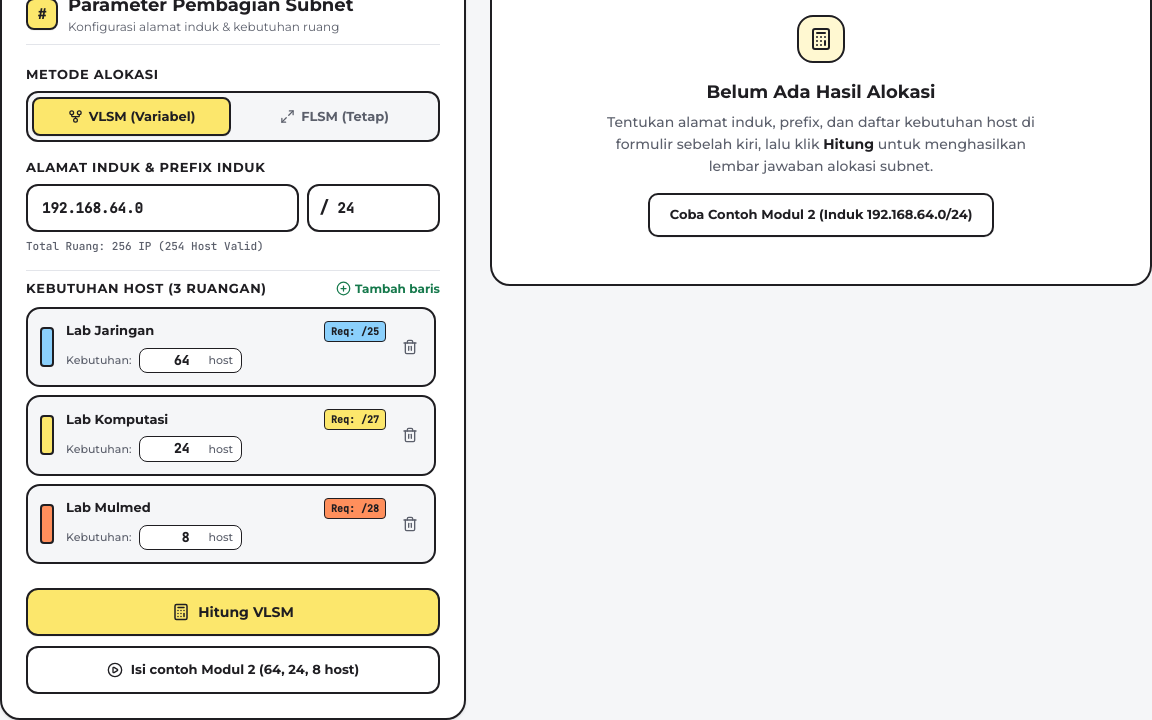
Test case: Halaman FlsmVlsm › memastikan urutan seksi hasil: Ringkasan -> Diketahui -> Langkah -> Tabel -> Kesimpulan
(page scrolled)
Click the button "Isi contoh Modul 2 (64, 24, 8 host)": (233,670) [26,646,440,694]
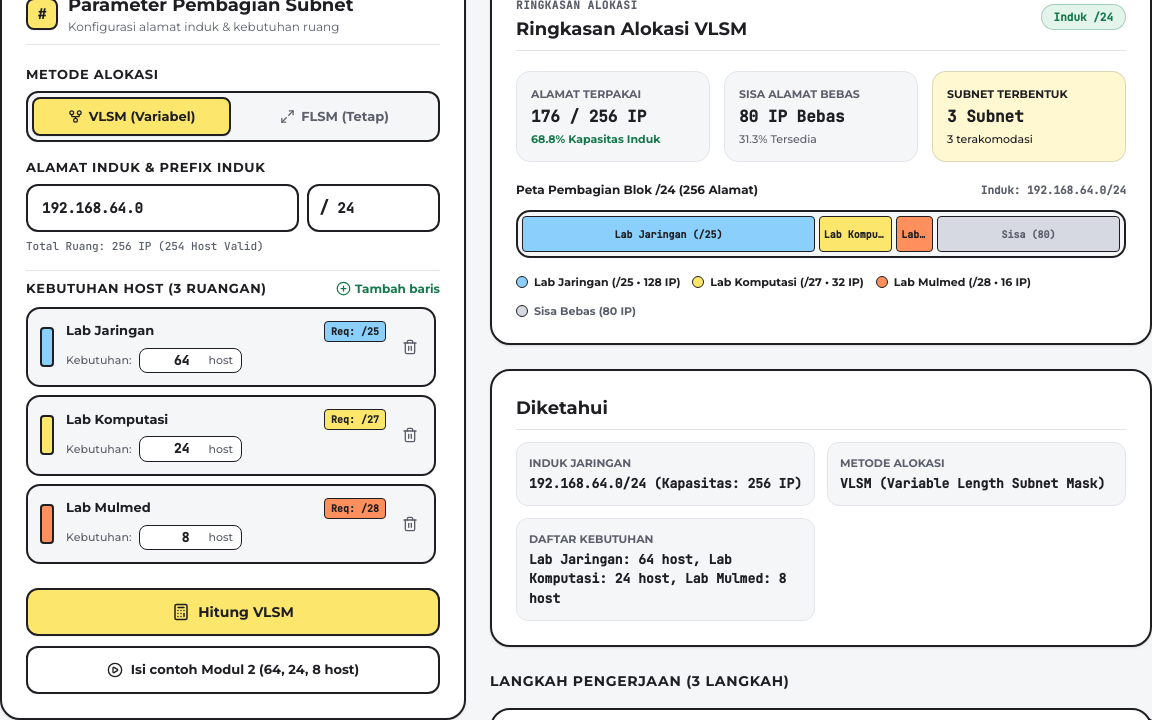
expect the heading "Ringkasan Alokasi VLSM" is shown: met, box [516,16,747,42]
